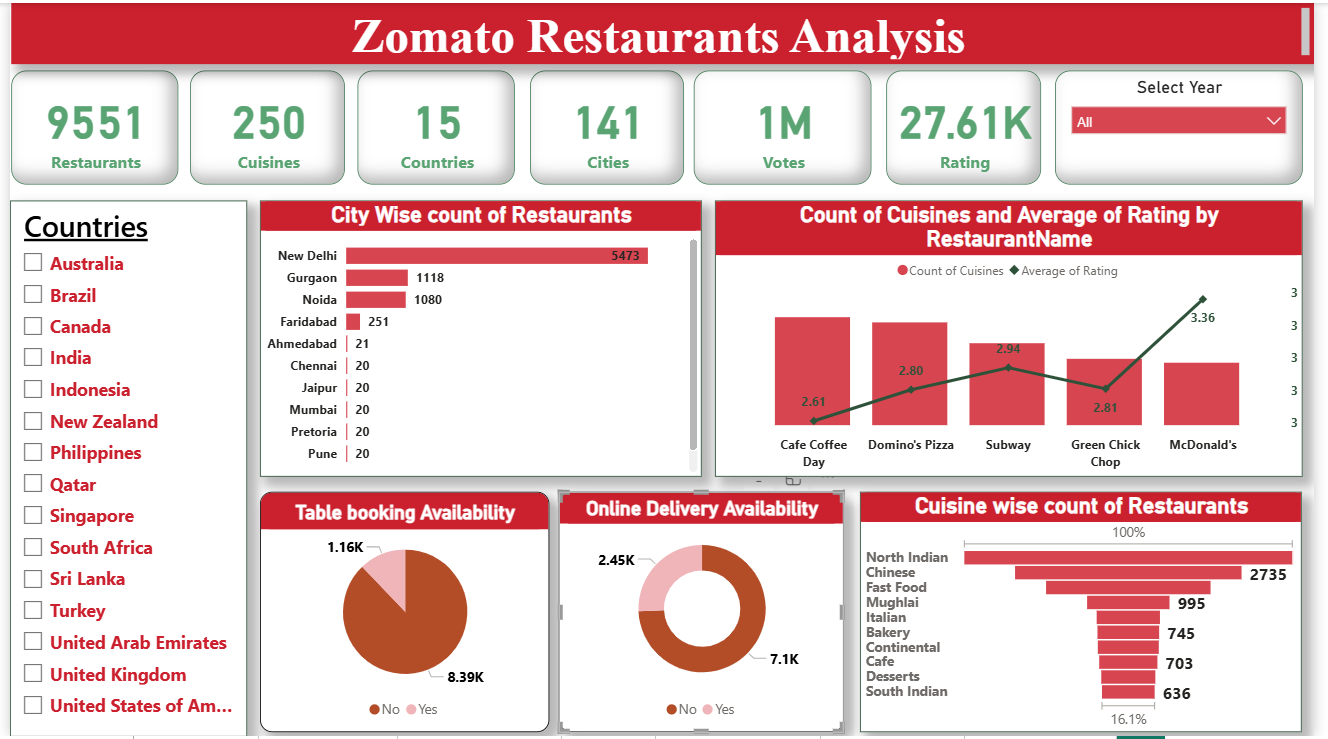

The dashboard page shown, as its layout file describes it:
{"tool":"powerbi","page":{"name":"Dashboard","canvas":[1280,720],"ordinal":0},"visuals":[{"type":"slicer","fields":{"Values":["Sheet2.country name"]},"box":[0,194.2,232.6,526.7],"z":0},{"type":"card","fields":{"Values":["CountNonNull(Sheet2.countryID)"]},"box":[340.7,66.3,154.7,111.6],"z":2000},{"type":"card","fields":{"Values":["Count(Sheet1.Cuisines)"]},"box":[176.7,66.3,152.3,111.6],"z":3000},{"type":"card","fields":{"Values":["Count(Sheet1.RestaurantID)"]},"box":[1.2,66.3,164,111.6],"z":4000},{"type":"card","fields":{"Values":["Count(Sheet1.City)"]},"box":[510.5,66.3,151.2,111.6],"z":5000},{"type":"textbox","box":[1.5,0,1279.2,60.3],"z":6000},{"type":"pieChart","title":"Table booking  Availability","fields":{"Category":["cuisines copy.Has_Table_booking"],"Y":["CountNonNull(cuisines copy.Has_Table_booking)"]},"box":[245.3,480.2,283.7,236],"z":7000},{"type":"donutChart","title":"Online Delivery Availability","fields":{"Category":["cuisines copy.Has_Online_delivery"],"Y":["CountNonNull(cuisines copy.Has_Online_delivery)"]},"box":[538.4,480.2,280.2,236],"z":8000},{"type":"funnel","title":"Cuisine wise count of Restaurants","fields":{"Category":["Sheet1.Column"],"Y":["CountNonNull(Sheet1.Cuisines)"]},"box":[834.9,480.2,433.7,236],"z":9000},{"type":"barChart","title":"City Wise count of Restaurants","fields":{"Category":["cuisines copy.City"],"Y":["CountNonNull(cuisines copy.RestaurantID)"]},"box":[245.3,194.2,433.7,270.9],"z":10000},{"type":"lineStackedColumnComboChart","fields":{"Category":["cuisines copy.RestaurantName"],"Y":["CountNonNull(cuisines copy.Cuisines)"],"Y2":["Avg(cuisines copy.Rating)"]},"box":[691.9,194.2,576.7,270.9],"z":11000},{"type":"slicer","title":"Select Year","fields":{"Values":["cuisines copy.new datekey.Variation.Date Hierarchy.Year","cuisines copy.new datekey.Variation.Date Hierarchy.Quarter","cuisines copy.new datekey.Variation.Date Hierarchy.Month","cuisines copy.new datekey.Variation.Date Hierarchy.Day"]},"box":[1025.6,66.3,243,111.6],"z":13000},{"type":"card","fields":{"Values":["Sum(cuisines copy.Votes)"]},"box":[670.9,66.3,174.4,111.6],"z":14000},{"type":"card","fields":{"Values":["Sum(cuisines copy.Rating)"]},"box":[860.5,66.3,152.3,111.6],"z":15000}]}

Visuals, with their boxes in screenshot pixels (x1, y1, x2, y2), scaled from the page's 1280x720 canvas onto the 1328x739 screenshot:
slicer - Sheet2.country name: 0 199 241 738
card - CountNonNull(Sheet2.countryID): 353 68 514 183
card - Count(Sheet1.Cuisines): 183 68 341 183
card - Count(Sheet1.RestaurantID): 1 68 171 183
card - Count(Sheet1.City): 530 68 687 183
textbox: 2 0 1327 62
"Table booking  Availability" pieChart: 254 493 549 735
"Online Delivery Availability" donutChart: 559 493 849 735
"Cuisine wise count of Restaurants" funnel: 866 493 1316 735
"City Wise count of Restaurants" barChart: 254 199 704 477
lineStackedColumnComboChart - cuisines copy.RestaurantName x CountNonNull(cuisines copy.Cuisines): 718 199 1316 477
"Select Year" slicer: 1064 68 1316 183
card - Sum(cuisines copy.Votes): 696 68 877 183
card - Sum(cuisines copy.Rating): 893 68 1051 183
